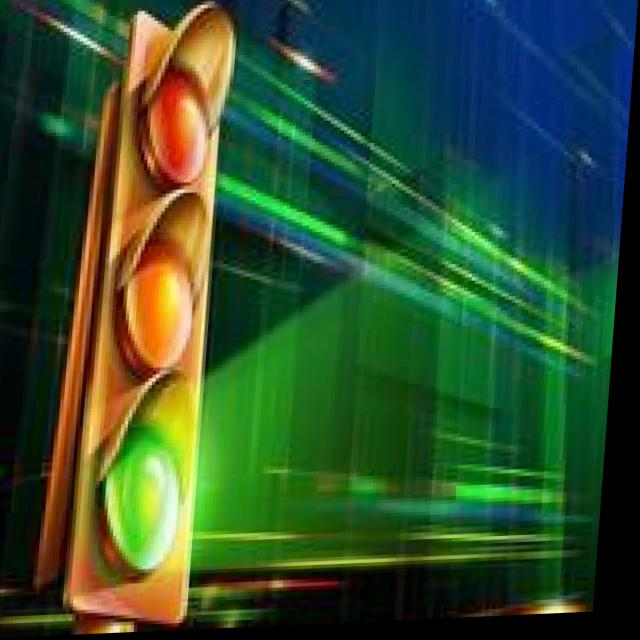green_light: (21, 382, 269, 608)
